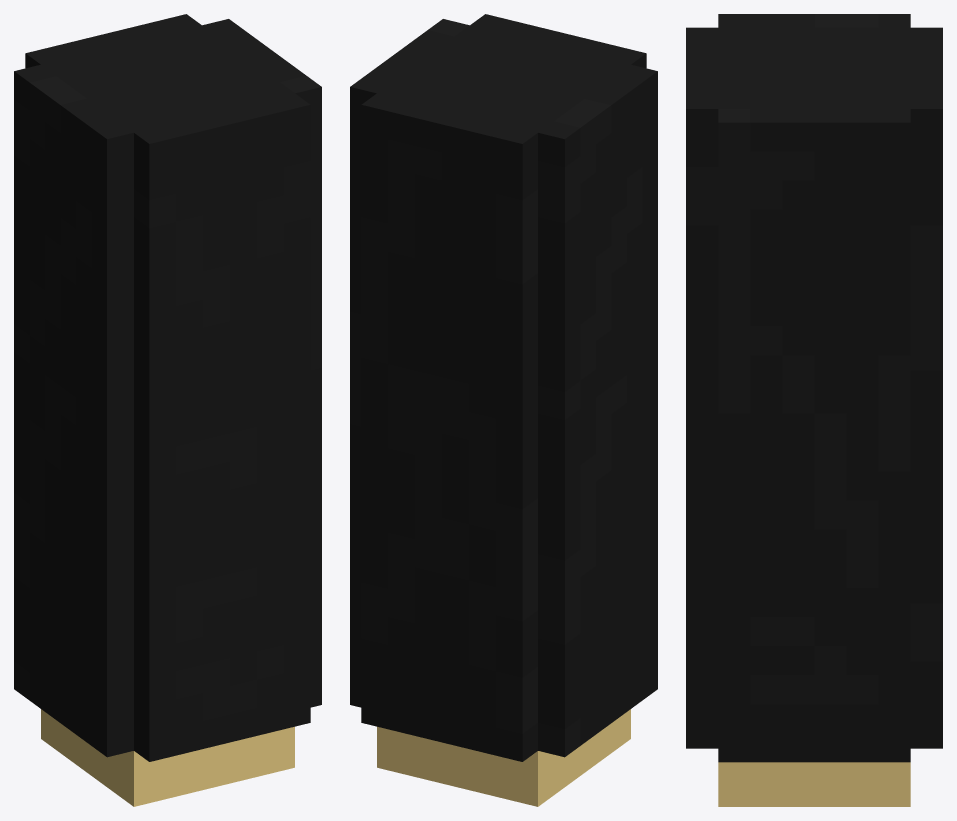
File: Bandit-2-Arm_R.obj
3 renders of one model, left to right at view 1: azimuth 30°, elevation 25°; view 2: azimuth 150°, elevation 25°; view 3: azimuth 270°, elevation 25°, orthographic. The views are drawn at different scales.
Parts seen in each view (by area): view 1: Arm_R; view 2: Arm_R; view 3: Arm_R.
Part boxes in pixels (x1,y1,x2,y2): Arm_R: (14,14,321,806); Arm_R: (350,14,657,806); Arm_R: (686,14,942,806).
Bounding box in the file's own units: 0.8 × 2.4 × 0.8.
1 material, 1 textured.
